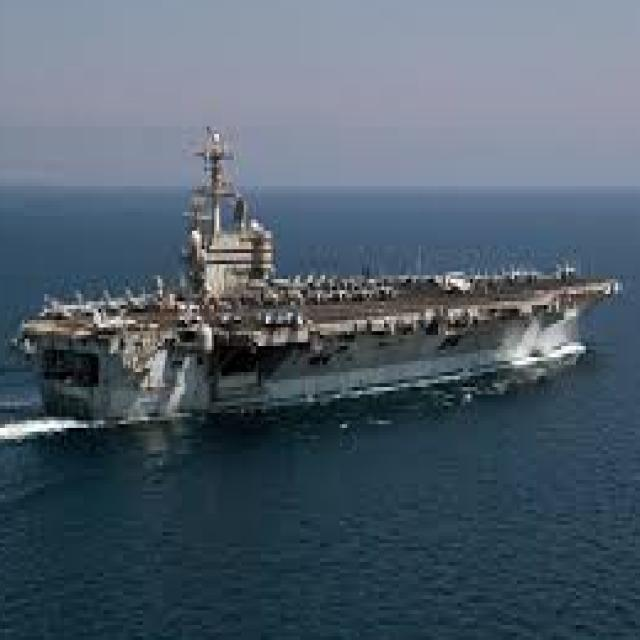navalvessels: (8, 134, 635, 436)
